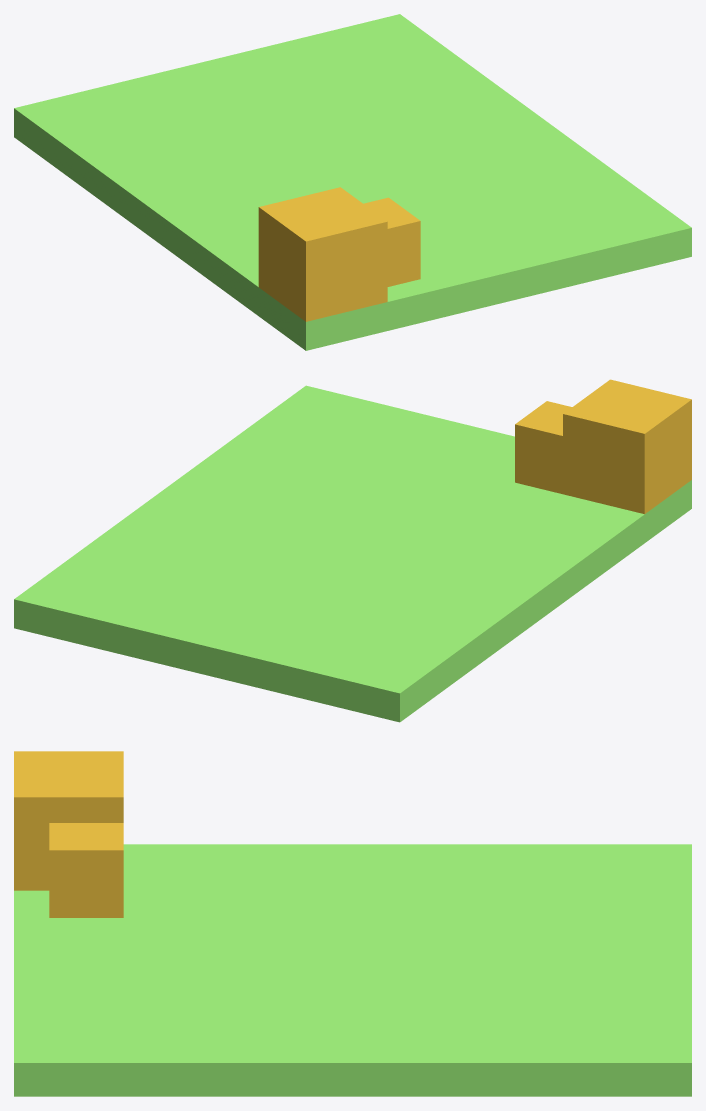
The picture shows the model from 3 angles, top to bottom: view 1: azimuth 30°, elevation 25°; view 2: azimuth 150°, elevation 25°; view 3: azimuth 270°, elevation 25°; orthographic projection. The views are drawn at different scales.
Parts seen in each view (by area): view 1: SketchUp (×2); view 2: SketchUp (×2); view 3: SketchUp (×2).
Boxes of the visible parts, x1,y1,x2,y2 form: SketchUp (×2): (14,14,691,350); SketchUp (×2): (14,379,691,722); SketchUp (×2): (14,751,691,1096).
Bounding box in the file's own units: 2193 × 2873 × 594.
